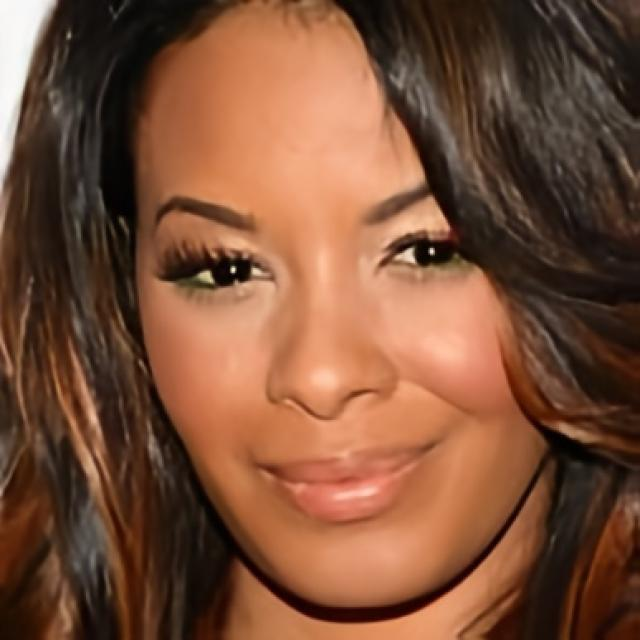content: (134, 0, 558, 615)
